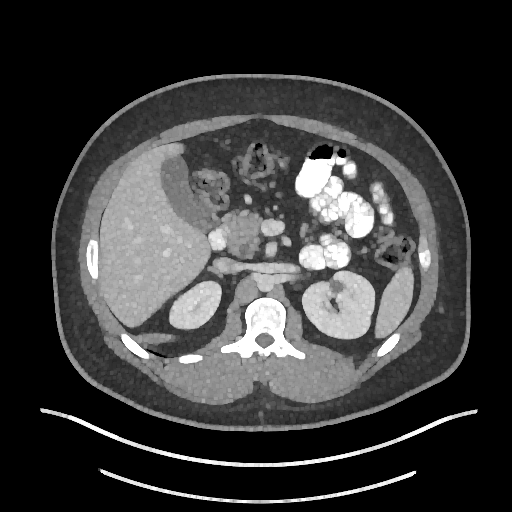Lesion: (326, 277, 346, 294)
